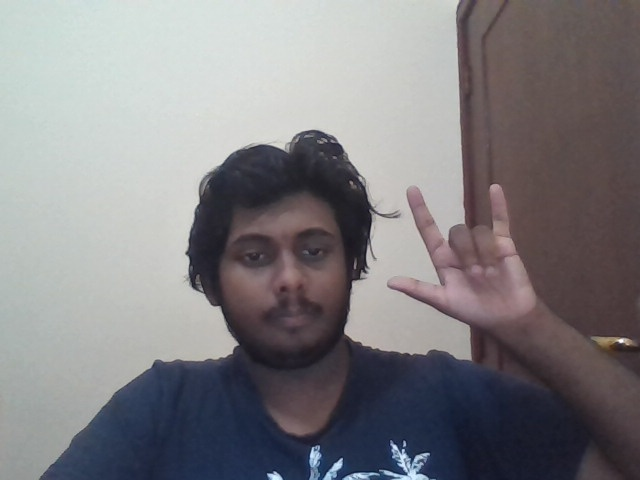iloveyou: (386, 183, 537, 332)
